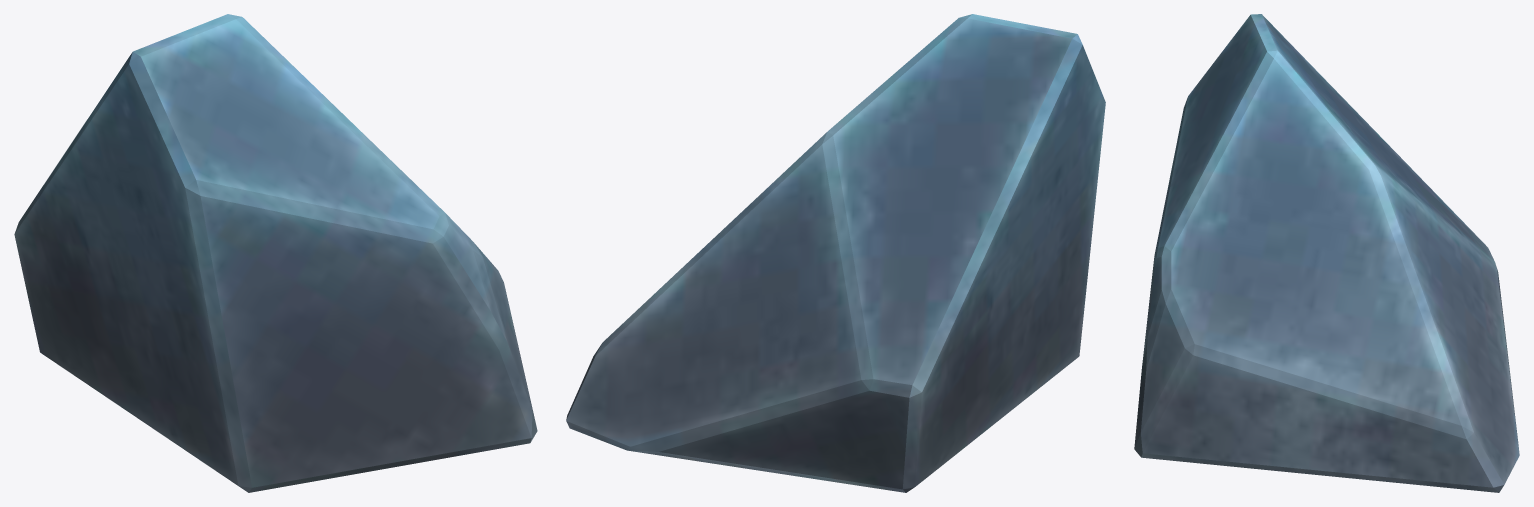
The model's file is Rock_3.gltf.
The picture shows the model from 3 angles, left to right: view 1: azimuth 30°, elevation 25°; view 2: azimuth 150°, elevation 25°; view 3: azimuth 270°, elevation 25°; orthographic projection. The views are drawn at different scales.
Parts seen in each view (by area): view 1: Rock_3(Clone); view 2: Rock_3(Clone); view 3: Rock_3(Clone).
Part boxes in pixels (x1,y1,x2,y2): Rock_3(Clone): (14,14,537,492); Rock_3(Clone): (566,14,1105,492); Rock_3(Clone): (1134,14,1519,492).
Size of the model in its own units: 0.84 by 0.8118 by 0.8618.
Materials: 1 (1 with a texture image).
